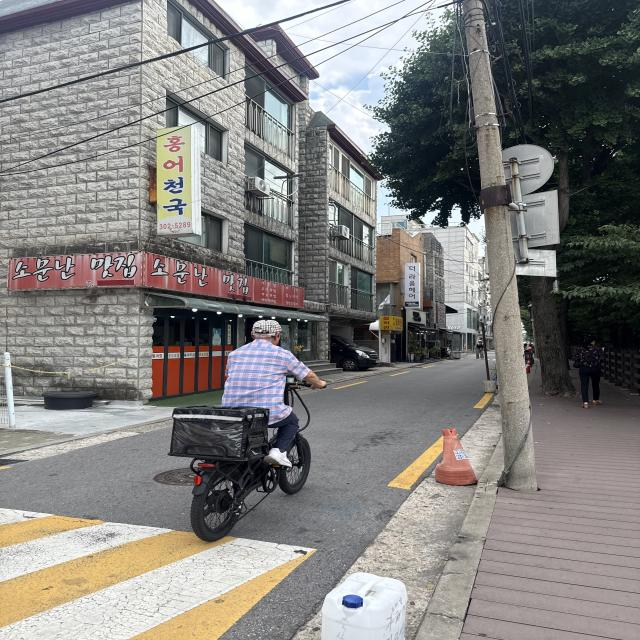motorcycle: (127, 370, 338, 542)
